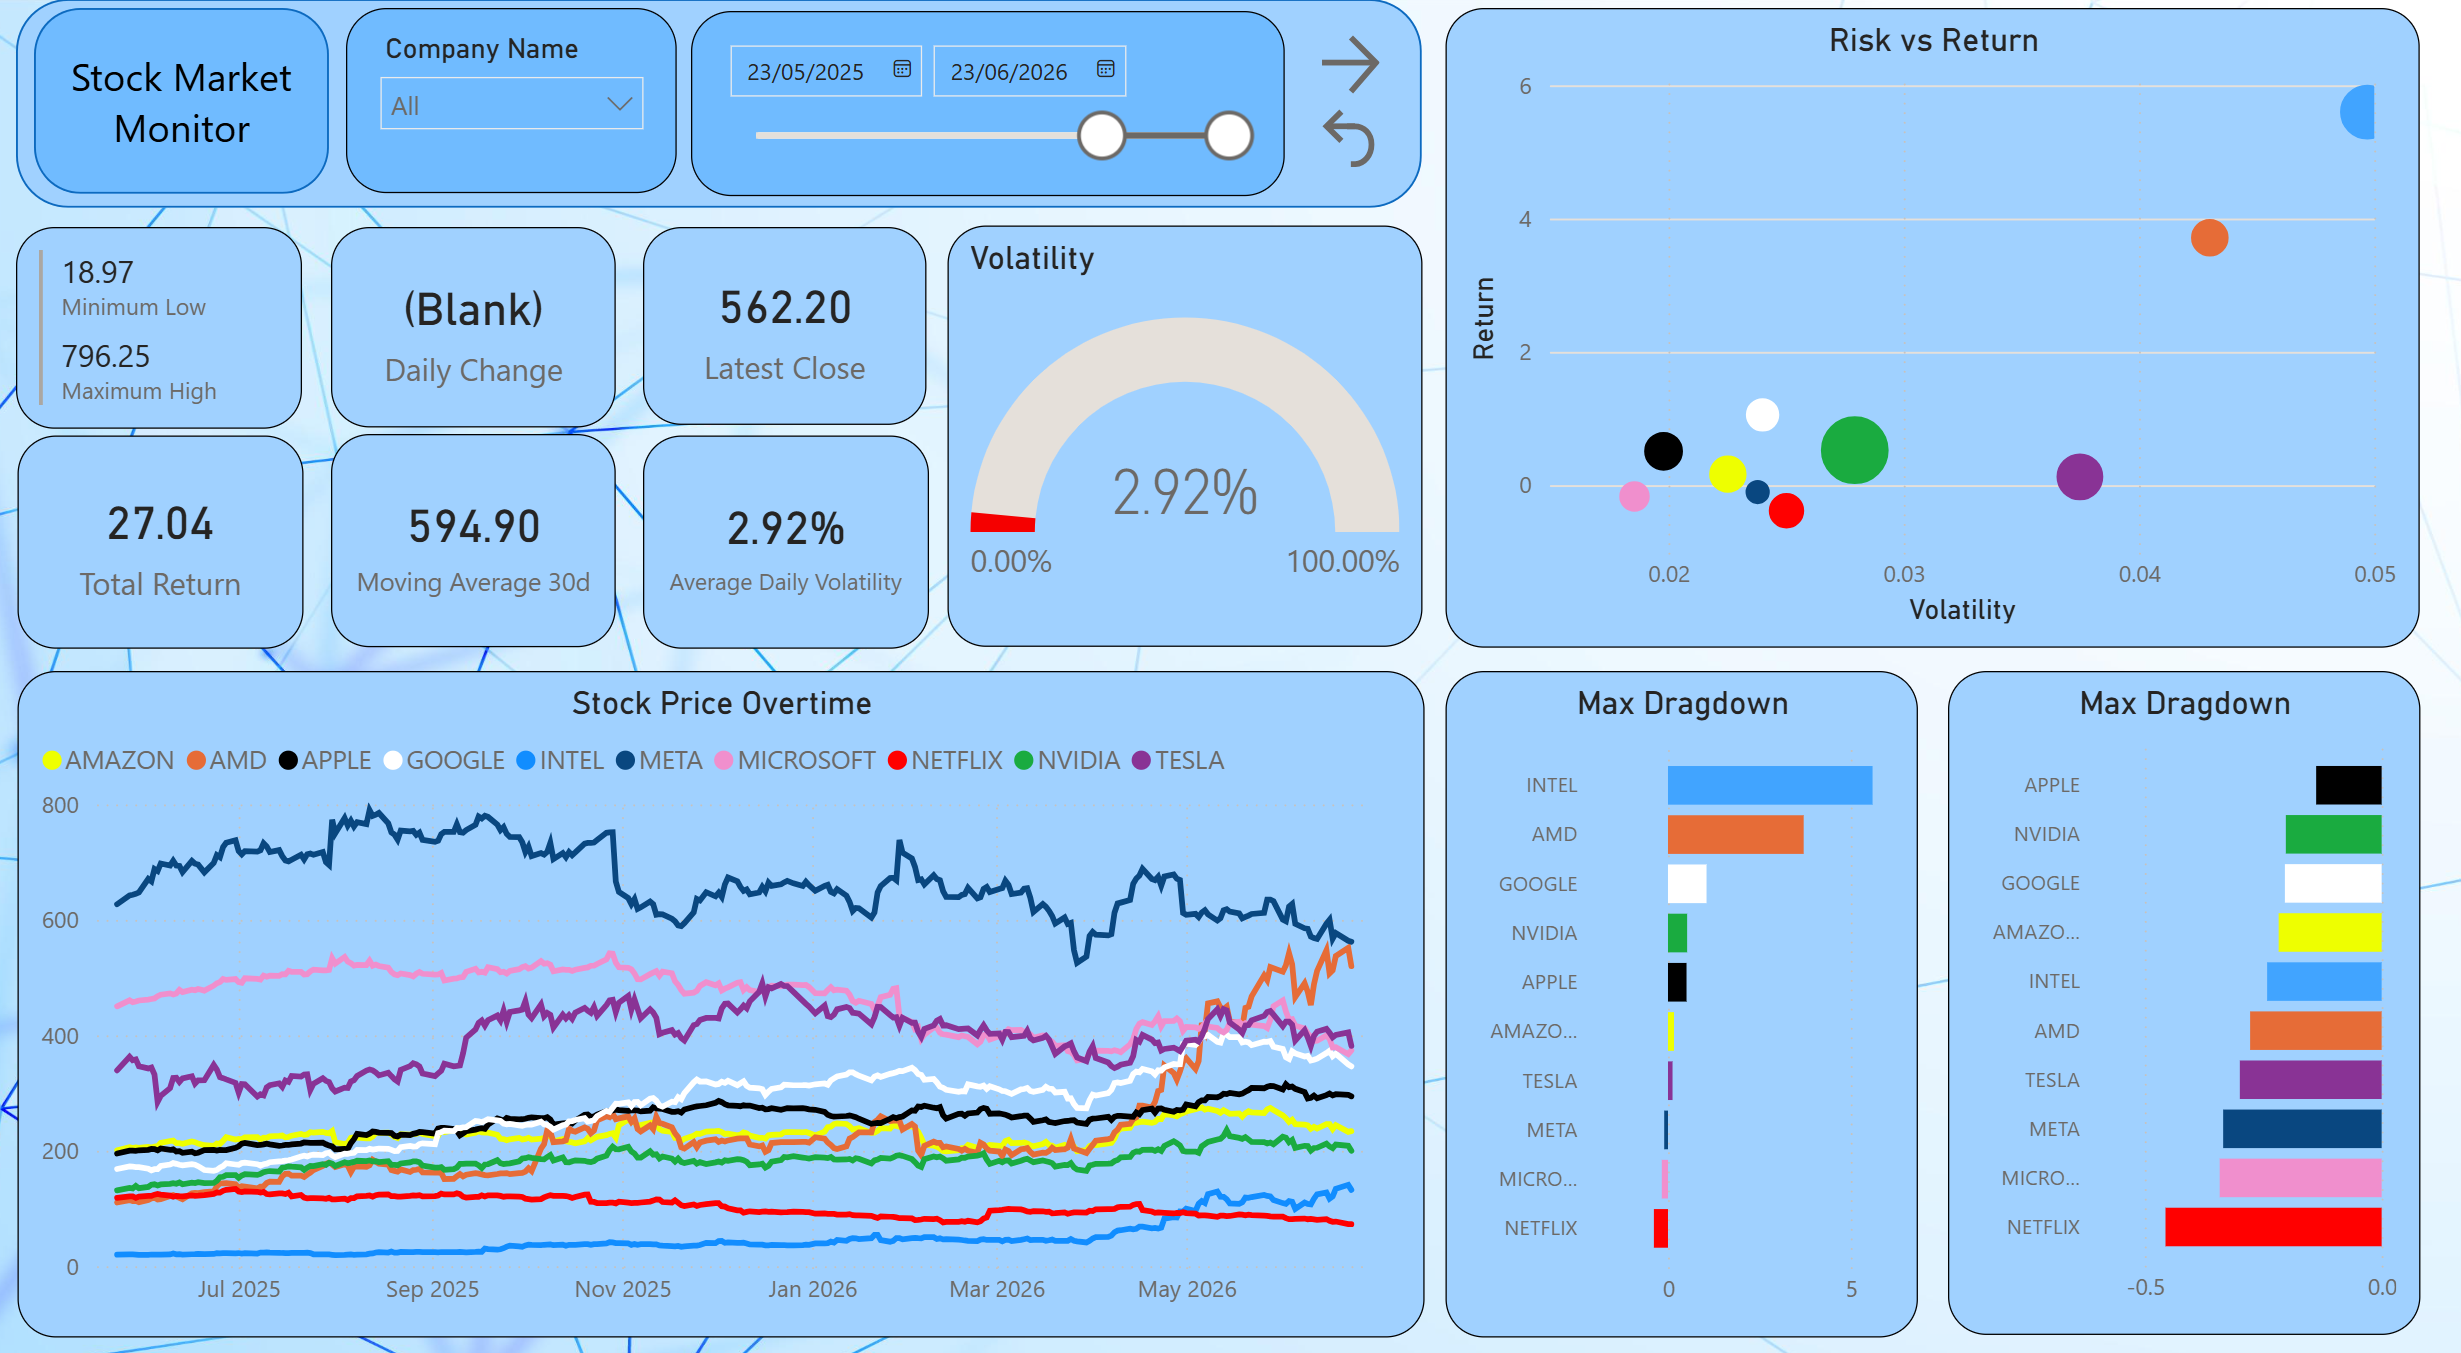

The page's visual inventory and layout, read from the dashboard file:
{"tool":"powerbi","page":{"name":"Overall Market","canvas":[1280,720],"ordinal":0},"visuals":[{"type":"shape","title":"Sotkc","box":[8,0,734,109],"z":0},{"type":"shape","box":[17,5,154,97],"z":1000},{"type":"slicer","fields":{"Values":["fact_stock.name"]},"box":[180,5,173,96.6],"z":2000},{"type":"slicer","fields":{"Values":["date.date"]},"box":[360.1,6,309.8,96.6],"z":3000},{"type":"multiRowCard","fields":{"Values":["measure_table.min_low","measure_table.max_high"]},"box":[8,118.7,149,105],"z":4000},{"type":"card","fields":{"Values":["measure_table.daily_change"]},"box":[172,118.7,148.9,104.6],"z":5000},{"type":"card","fields":{"Values":["measure_table.latest_close"]},"box":[335,118.7,148,103],"z":6000},{"type":"card","fields":{"Values":["measure_table.total_return"]},"box":[9,227.7,149,111],"z":7000},{"type":"card","fields":{"Values":["measure_table.30d_moving_avg"]},"box":[172,227.3,148.9,111.6],"z":8000},{"type":"card","fields":{"Values":["measure_table.avg_daily_volatility"]},"box":[335,227.7,149,111],"z":9000},{"type":"gauge","fields":{"Y":["measure_table.volatility_%"]},"box":[494,118,248,220],"z":10000},{"type":"scatterChart","title":"Risk vs Return","fields":{"X":["measure_table.volatility_%"],"Size":["Sum(fact_stock.volume)"],"Category":["fact_stock.name"],"Y":["measure_table.total_return"]},"box":[754.3,5,508.9,333.9],"z":11000},{"type":"clusteredBarChart","title":"Max Dragdown","fields":{"Category":["fact_stock.name"],"Y":["measure_table.max_dragdown"]},"box":[1016.8,351,246.4,347],"z":12000},{"type":"lineChart","title":"Stock Price Overtime","fields":{"Category":["dim_date.date.Variation.Date Hierarchy.Year"],"Y":["Sum(fact_stock.close)"],"Series":["fact_stock.name"]},"box":[8.9,351.1,734.4,347.8],"z":13000},{"type":"actionButton","box":[683.9,14.1,58.3,40.2],"z":14000},{"type":"actionButton","box":[683.9,52.3,58.3,40.2],"z":15000},{"type":"clusteredBarChart","title":"Max Dragdown","fields":{"Category":["fact_stock.name"],"Y":["measure_table.total_return"]},"box":[754.4,351.1,246.7,347.8],"z":15001}]}

Visuals, with their boxes in screenshot pixels (x1, y1, x2, y2), scaled from the page's 1280x720 canvas onto the 2461x1353 screenshot:
"Sotkc" shape: pyautogui.locateOnScreen(15, 0, 1427, 205)
shape: pyautogui.locateOnScreen(33, 9, 329, 192)
slicer - fact_stock.name: pyautogui.locateOnScreen(346, 9, 679, 191)
slicer - date.date: pyautogui.locateOnScreen(692, 11, 1288, 193)
multiRowCard - measure_table.min_low x measure_table.max_high: pyautogui.locateOnScreen(15, 223, 302, 420)
card - measure_table.daily_change: pyautogui.locateOnScreen(331, 223, 617, 420)
card - measure_table.latest_close: pyautogui.locateOnScreen(644, 223, 929, 417)
card - measure_table.total_return: pyautogui.locateOnScreen(17, 428, 304, 636)
card - measure_table.30d_moving_avg: pyautogui.locateOnScreen(331, 427, 617, 637)
card - measure_table.avg_daily_volatility: pyautogui.locateOnScreen(644, 428, 931, 636)
gauge - measure_table.volatility_%: pyautogui.locateOnScreen(950, 222, 1427, 635)
"Risk vs Return" scatterChart: pyautogui.locateOnScreen(1450, 9, 2429, 637)
"Max Dragdown" clusteredBarChart: pyautogui.locateOnScreen(1955, 660, 2429, 1312)
"Stock Price Overtime" lineChart: pyautogui.locateOnScreen(17, 660, 1429, 1313)
actionButton: pyautogui.locateOnScreen(1315, 26, 1427, 102)
actionButton: pyautogui.locateOnScreen(1315, 98, 1427, 174)
"Max Dragdown" clusteredBarChart: pyautogui.locateOnScreen(1450, 660, 1925, 1313)
